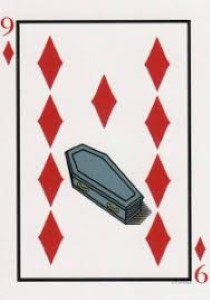NineOfDiamonds: (1, 11, 210, 288)
